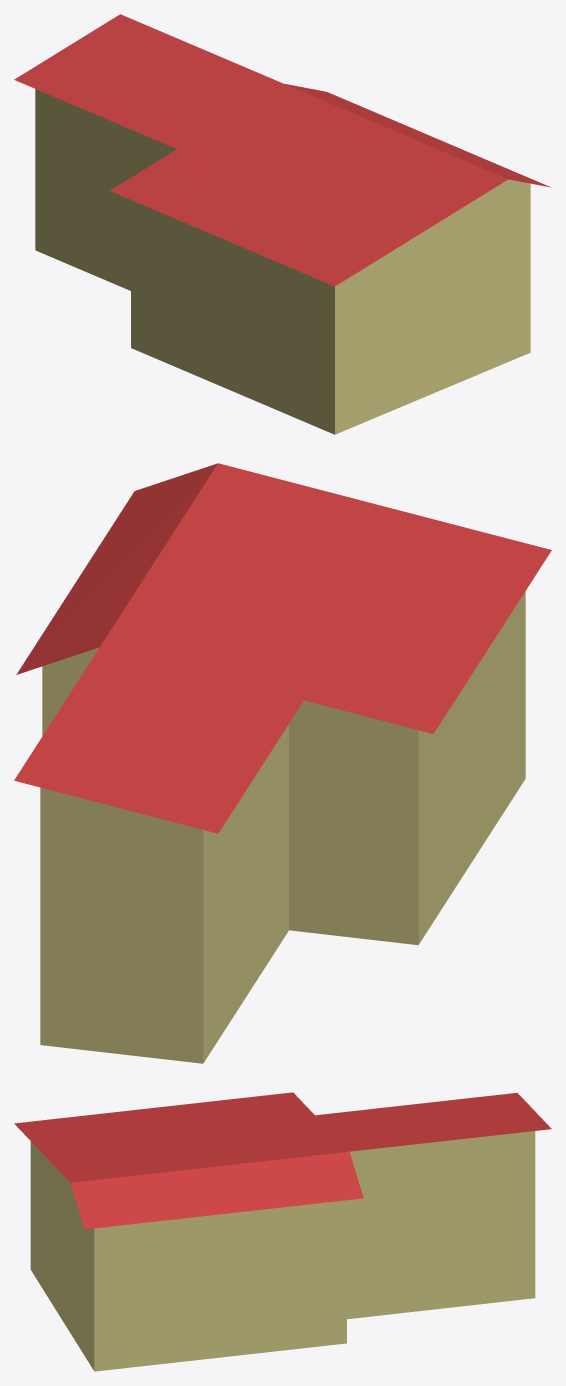
The picture shows the model from 3 angles, top to bottom: view 1: azimuth 30°, elevation 25°; view 2: azimuth 150°, elevation 25°; view 3: azimuth 270°, elevation 25°; orthographic projection. The views are drawn at different scales.
Size of the model in its own units: 12.48 by 19.67 by 6.99.
